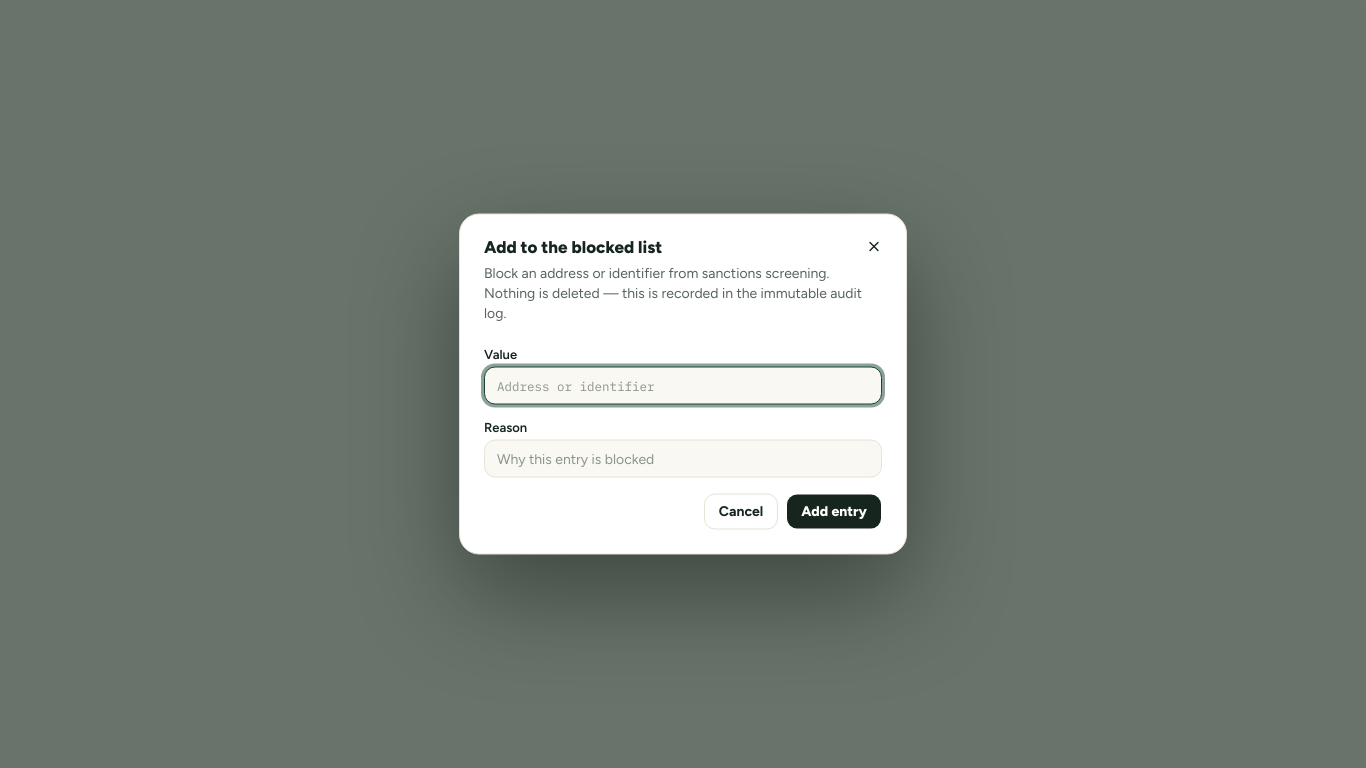
AddBlockedDialog › surfaces a rejected save on the value field
In the field labelled "Value": (683, 386) x1=484 y1=366 x2=882 y2=404, type "0xNEW"
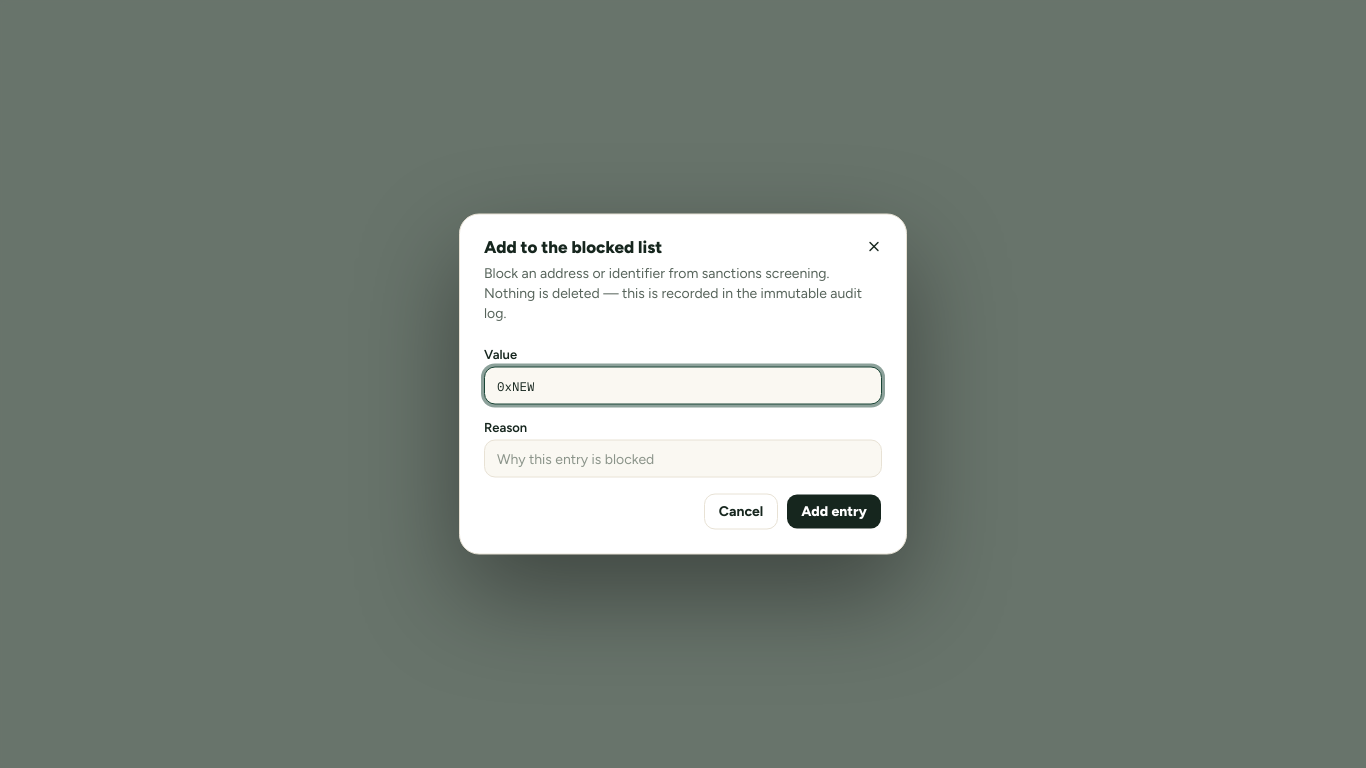
Click the button "Add entry": (834, 512) x1=786 y1=494 x2=882 y2=530
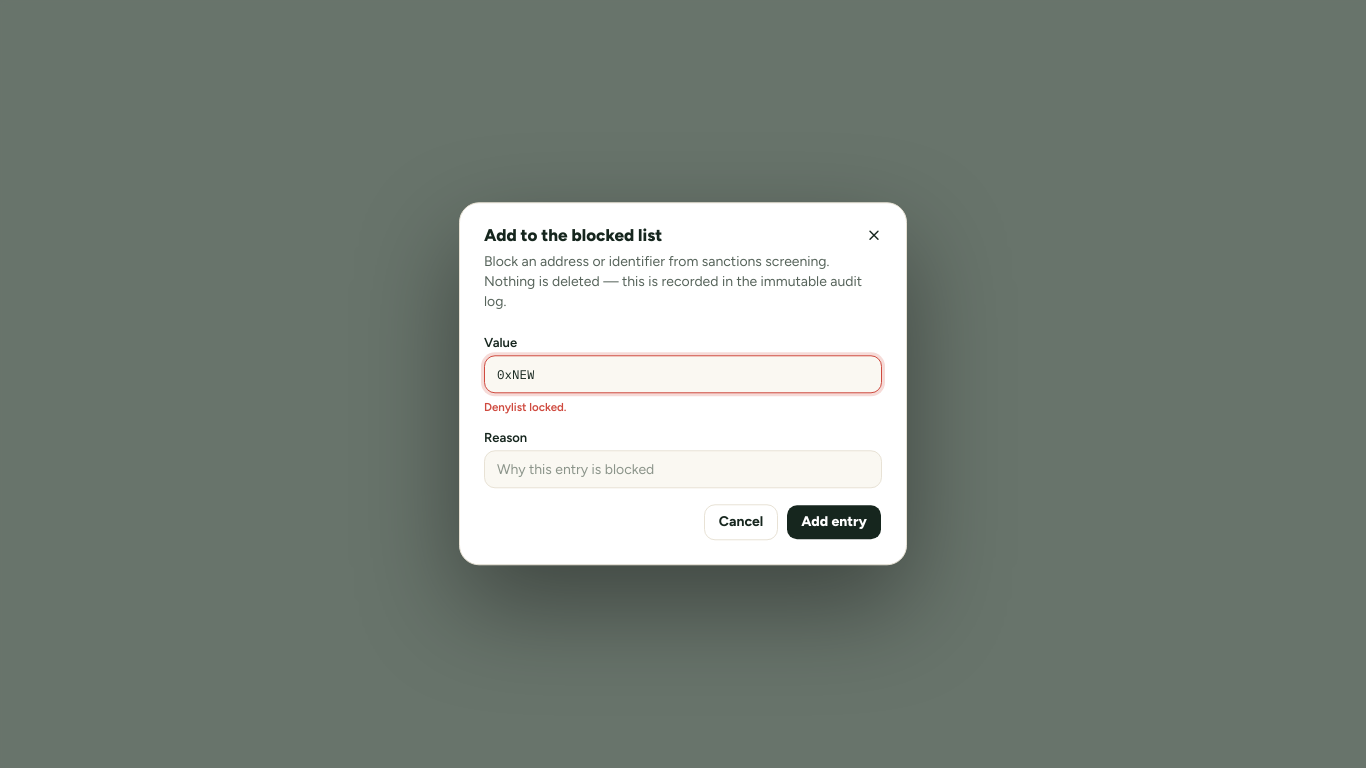
Expected: the text "Denylist locked." is shown, x1=484 y1=400 x2=566 y2=414
